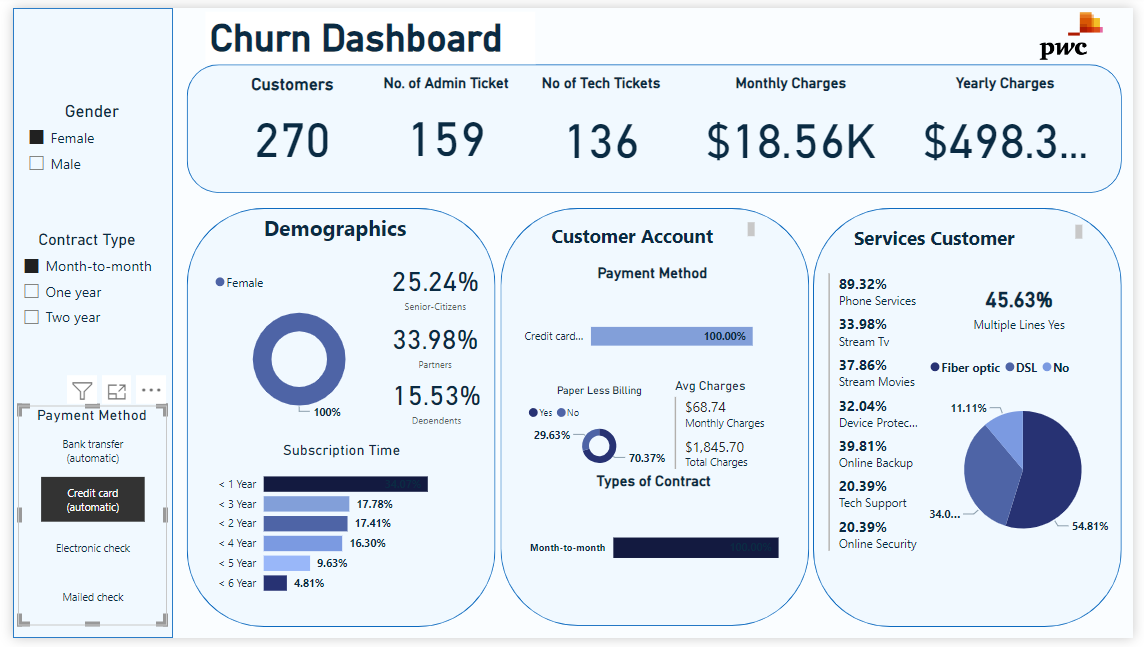

Layout of this report page (visuals, bound fields, positions):
{"tool":"powerbi","page":{"name":"Churn_Dashboard","canvas":[1280,720],"ordinal":2},"visuals":[{"type":"shape","box":[199.1,228.1,352.8,478.8],"z":0},{"type":"shape","box":[198.6,64.3,1068.6,147.1],"z":1000},{"type":"shape","box":[914.8,228.1,352.8,478.8],"z":2000},{"type":"shape","box":[0,0,182.9,720],"z":3000},{"type":"textbox","box":[220,4.3,377.1,60],"z":4000},{"type":"image","box":[1161.4,0,95.7,64.3],"z":5000},{"type":"card","title":"Customers","fields":{"Values":["CountNonNull(Churn.Customer_ID)"]},"box":[241.4,75.7,155.7,121.4],"z":6000},{"type":"card","title":"No. of Admin Ticket","fields":{"Values":["Sum(Churn.numAdminTickets)"]},"box":[417.6,75.7,155.7,121.4],"z":7000},{"type":"card","title":"No of Tech Tickets","fields":{"Values":["Sum(Churn.numTechTickets)"]},"box":[593.8,75.7,155.7,121.4],"z":8000},{"type":"card","title":"Monthly Charges","fields":{"Values":["Sum(Churn.MonthlyCharges)"]},"box":[770,75.6,237.8,121.1],"z":9000},{"type":"card","title":"Yearly Charges","fields":{"Values":["Sum(Churn.TotalCharges)"]},"box":[1028.2,75.6,210.4,121],"z":10000},{"type":"slicer","title":"Gender","fields":{"Values":["Churn.gender"]},"box":[6.3,107.1,168.9,89.5],"z":11000},{"type":"slicer","title":"Contract Type","fields":{"Values":["Churn.Contract"]},"box":[0,253.9,168.9,143.7],"z":12000},{"type":"slicer","title":"Payment Method","fields":{"Values":["Churn.PaymentMethod"]},"box":[6.3,454.9,168.9,250.8],"z":13000},{"type":"shape","box":[557,228.1,352.8,477.6],"z":14000},{"type":"donutChart","fields":{"Category":["Churn.gender"],"Y":["CountNonNull(Churn.gender)"]},"box":[225.6,292.5,203.1,187.5],"z":15000},{"type":"textbox","box":[281.4,230,187.1,50],"z":16000},{"type":"clusteredBarChart","title":"Subscription Time","fields":{"Y":["CountNonNull(Churn.Churn)"],"Category":["Churn.Loyalty"]},"box":[225.6,494,299.9,186.5],"z":17000},{"type":"card","fields":{"Values":["KPI_Churn.Senior-Citizens"]},"box":[423.1,282.5,120,68.8],"z":18000},{"type":"card","fields":{"Values":["KPI_Churn.Partners"]},"box":[423.1,349.4,120,66.9],"z":19000},{"type":"card","fields":{"Values":["KPI_Churn.Dependents"]},"box":[424.4,414.4,120,65.6],"z":20000},{"type":"textbox","box":[610,240,242.9,40],"z":21000},{"type":"clusteredBarChart","title":"Payment Method","fields":{"Category":["Churn.PaymentMethod"],"Y":["CountNonNull(Churn.PaymentMethod)"]},"box":[566,293,330,139],"z":22000},{"type":"donutChart","title":"Paper Less Billing","fields":{"Category":["Churn.PaperlessBilling"],"Y":["CountNonNull(Churn.PaperlessBilling)"]},"box":[584.1,430.6,171.8,100],"z":23000},{"type":"clusteredBarChart","title":"Types of Contract","fields":{"Category":["Churn.Contract"],"Y":["CountNonNull(Churn.Contract)"]},"box":[584.1,530.6,295.9,148.2],"z":24000},{"type":"multiRowCard","title":"Avg Charges","fields":{"Values":["Avg(Churn.MonthlyCharges)","Avg(Churn.TotalCharges)"]},"box":[751.1,423.3,144.4,112.2],"z":25000},{"type":"textbox","box":[955.7,242.9,271.4,40],"z":26000},{"type":"pieChart","fields":{"Category":["Churn.InternetService"],"Y":["CountNonNull(Churn.InternetService)"]},"box":[1043,390,223,246],"z":27000},{"type":"multiRowCard","fields":{"Values":["KPI_Churn.Phone Services","KPI_Churn.Stream Tv","KPI_Churn.Stream Movies","KPI_Churn.Device Protection","KPI_Churn.Online Backup","KPI_Churn.Tech Support","KPI_Churn.Online Security"]},"box":[927,298,116,338],"z":28000},{"type":"card","fields":{"Values":["KPI_Churn.Multiple Lines Yes"]},"box":[1043,298,214,85],"z":29000}]}

Visuals, with their boxes in screenshot pixels (x1, y1, x2, y2), scaled from the page's 1280x720 canvas onto the 1144x647 screenshot:
shape: (x1=178, y1=205, x2=493, y2=635)
shape: (x1=177, y1=58, x2=1133, y2=190)
shape: (x1=818, y1=205, x2=1133, y2=635)
shape: (x1=0, y1=0, x2=163, y2=646)
textbox: (x1=197, y1=4, x2=534, y2=58)
image: (x1=1038, y1=0, x2=1124, y2=58)
"Customers" card: (x1=216, y1=68, x2=355, y2=177)
"No. of Admin Ticket" card: (x1=373, y1=68, x2=512, y2=177)
"No of Tech Tickets" card: (x1=531, y1=68, x2=670, y2=177)
"Monthly Charges" card: (x1=688, y1=68, x2=901, y2=177)
"Yearly Charges" card: (x1=919, y1=68, x2=1107, y2=177)
"Gender" slicer: (x1=6, y1=96, x2=157, y2=177)
"Contract Type" slicer: (x1=0, y1=228, x2=151, y2=357)
"Payment Method" slicer: (x1=6, y1=409, x2=157, y2=634)
shape: (x1=498, y1=205, x2=813, y2=634)
donutChart - Churn.gender x CountNonNull(Churn.gender): (x1=202, y1=263, x2=383, y2=431)
textbox: (x1=252, y1=207, x2=419, y2=252)
"Subscription Time" clusteredBarChart: (x1=202, y1=444, x2=470, y2=612)
card - KPI_Churn.Senior-Citizens: (x1=378, y1=254, x2=485, y2=316)
card - KPI_Churn.Partners: (x1=378, y1=314, x2=485, y2=374)
card - KPI_Churn.Dependents: (x1=379, y1=372, x2=487, y2=431)
textbox: (x1=545, y1=216, x2=762, y2=252)
"Payment Method" clusteredBarChart: (x1=506, y1=263, x2=801, y2=388)
"Paper Less Billing" donutChart: (x1=522, y1=387, x2=676, y2=477)
"Types of Contract" clusteredBarChart: (x1=522, y1=477, x2=786, y2=610)
"Avg Charges" multiRowCard: (x1=671, y1=380, x2=800, y2=481)
textbox: (x1=854, y1=218, x2=1097, y2=254)
pieChart - Churn.InternetService x CountNonNull(Churn.InternetService): (x1=932, y1=350, x2=1131, y2=572)
multiRowCard - KPI_Churn.Phone Services x KPI_Churn.Stream Tv: (x1=829, y1=268, x2=932, y2=572)
card - KPI_Churn.Multiple Lines Yes: (x1=932, y1=268, x2=1123, y2=344)
